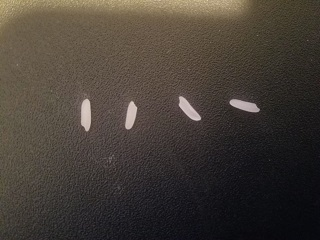egg: (177, 94, 201, 121), (228, 98, 260, 113), (124, 100, 138, 130), (80, 97, 90, 131)
